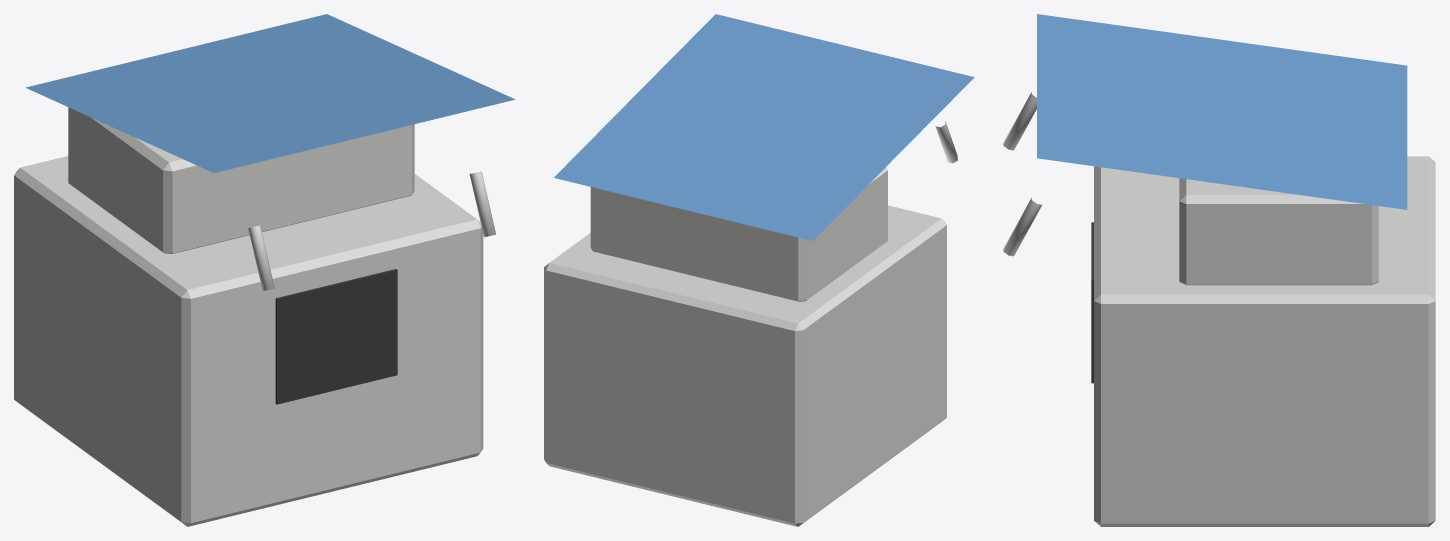
Rendered from starting_block.glb.
3 renders of one model, left to right at view 1: azimuth 30°, elevation 25°; view 2: azimuth 150°, elevation 25°; view 3: azimuth 270°, elevation 25°, orthographic. The views are drawn at different scales.
Parts seen in each view (by area): view 1: starting_block; view 2: starting_block; view 3: starting_block.
Part boxes in pixels (x1,y1,x2,y2): starting_block: [14, 14, 515, 526]; starting_block: [544, 14, 974, 526]; starting_block: [1003, 14, 1435, 526].
Size of the model in its own units: 0.6 by 0.72 by 0.7593.
